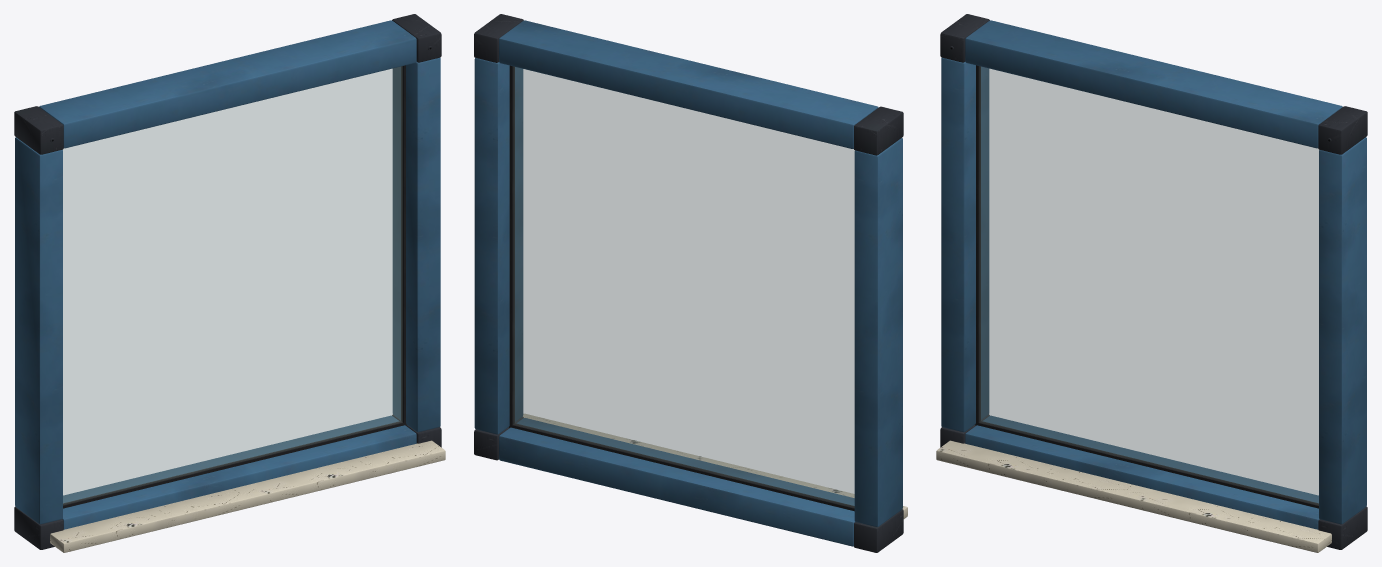
File: window_square.glb
3 renders of one model, left to right at view 1: azimuth 30°, elevation 25°; view 2: azimuth 150°, elevation 25°; view 3: azimuth 330°, elevation 25°, orthographic.
Parts seen in each view (by area): view 1: WindowSquareMesh; view 2: WindowSquareMesh; view 3: WindowSquareMesh.
Boxes of the visible parts, x1,y1,x2,y2 form: WindowSquareMesh: (14, 14, 445, 552); WindowSquareMesh: (474, 14, 907, 552); WindowSquareMesh: (936, 14, 1367, 552).
Size of the model in its own units: 1 by 1 by 0.175.
Materials: 6 (4 with a texture image).
